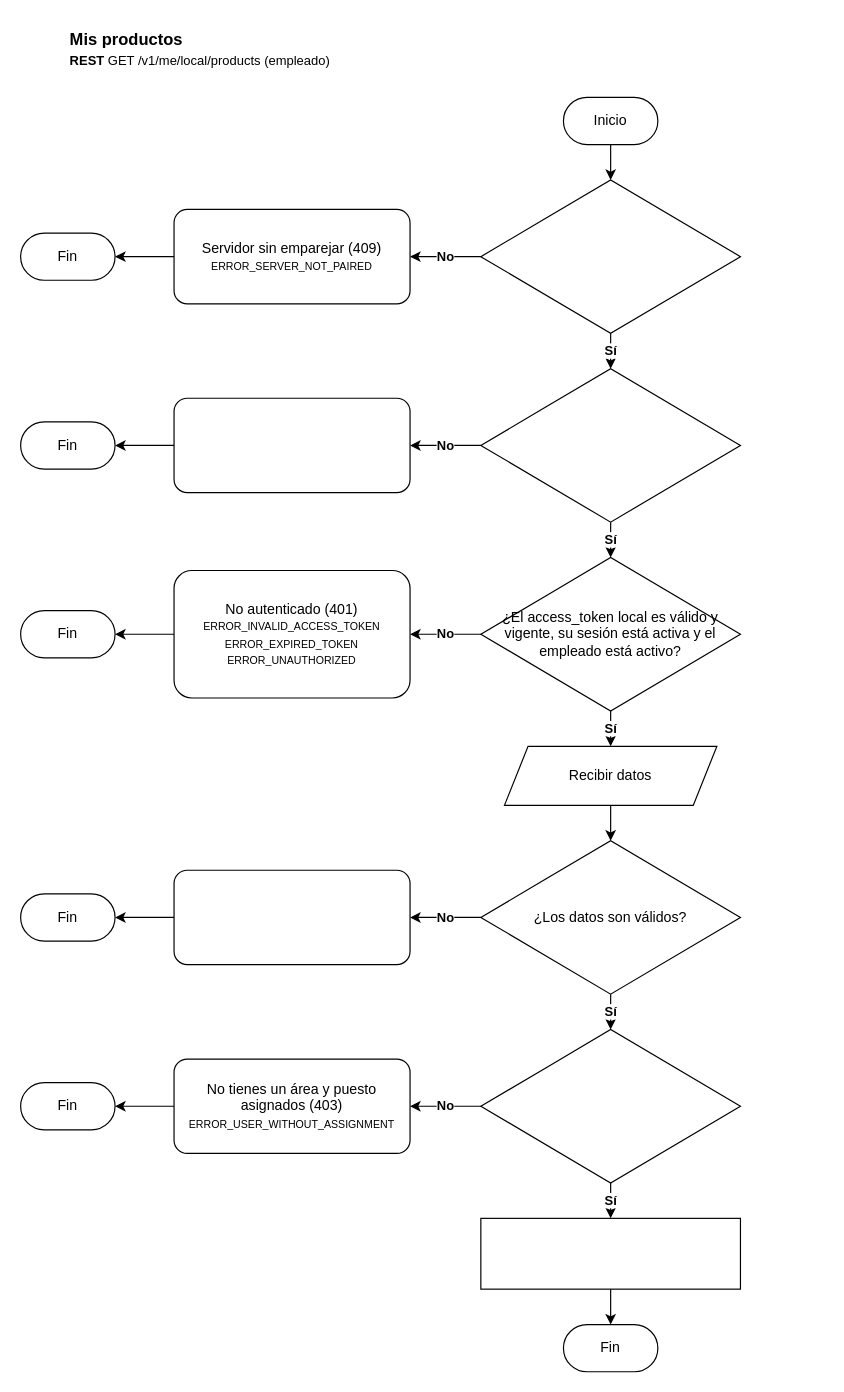
Some shapes in this 844 by 1392 pixel diagram are drawn without their labels. The centre of each missing label's shape, as x and y in pixels:
"Datos inválidos (400) ERROR_BAD_REQUEST" belongs at point (291, 917).
"Falta el token (401) ERROR_MISSING_TOKEN" belongs at point (291, 445).
"Responder 200 con el mensaje PRODUCTS_RETRIEVED" belongs at point (610, 1253).
"¿El empleado tiene área y puesto asignados?" belongs at point (610, 1105).
"¿El servidor ya se emparejó alguna vez (pairing_status distinto de unpaired)?" belongs at point (610, 256).
"¿Trae Authorization: Bearer?" belongs at point (610, 445).
